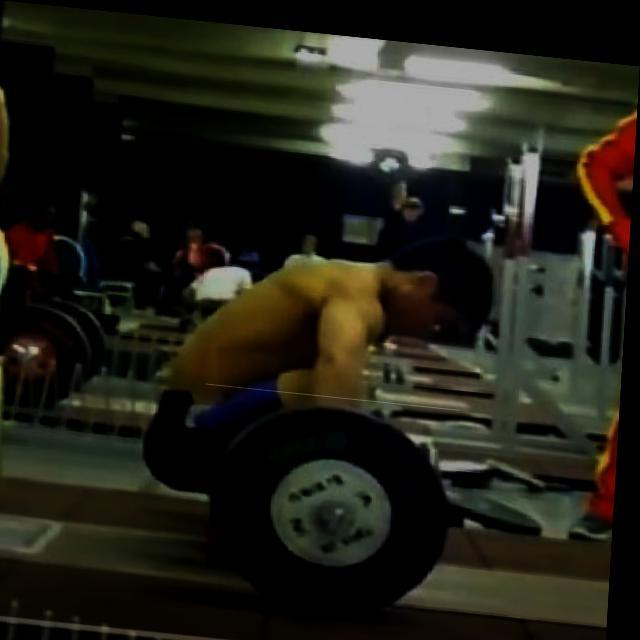barbell: (201, 380, 465, 623)
